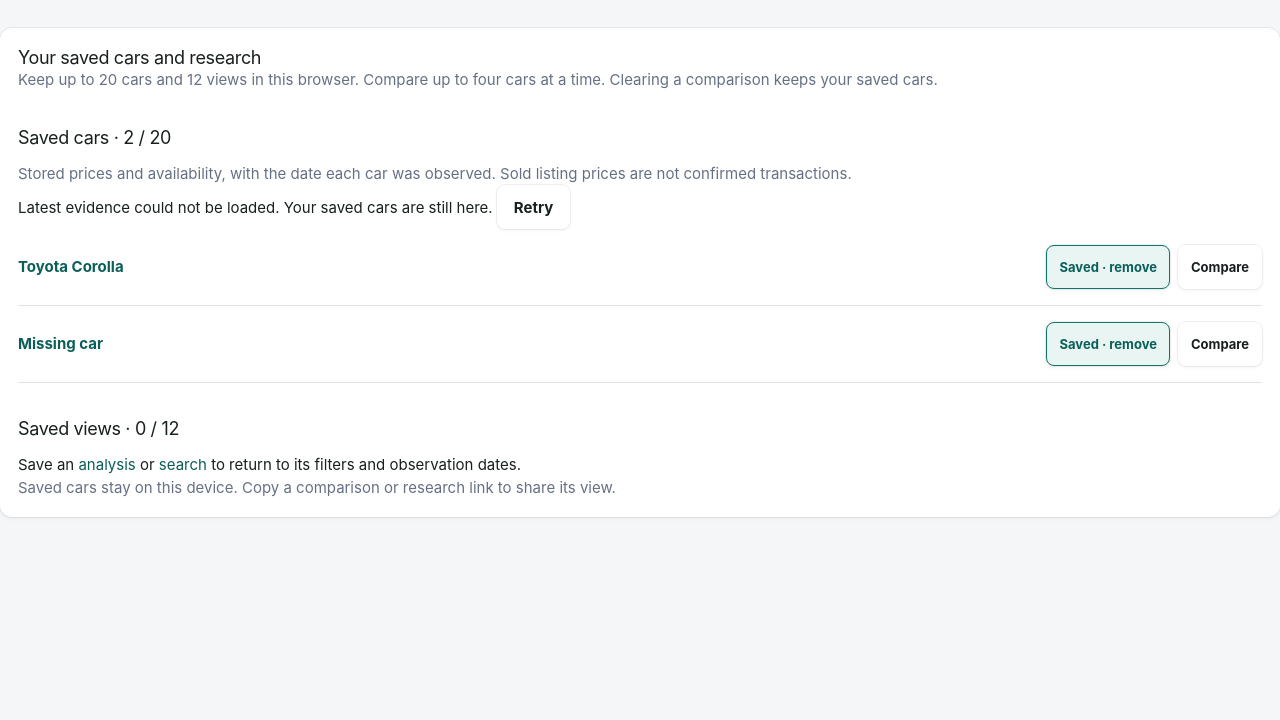
Test case: saved cars and comparison › keeps saved links through a failed summary request and retries to show current evidence and missing listings
Click the button "Retry".
click(534, 207)  # box [497,185,570,229]
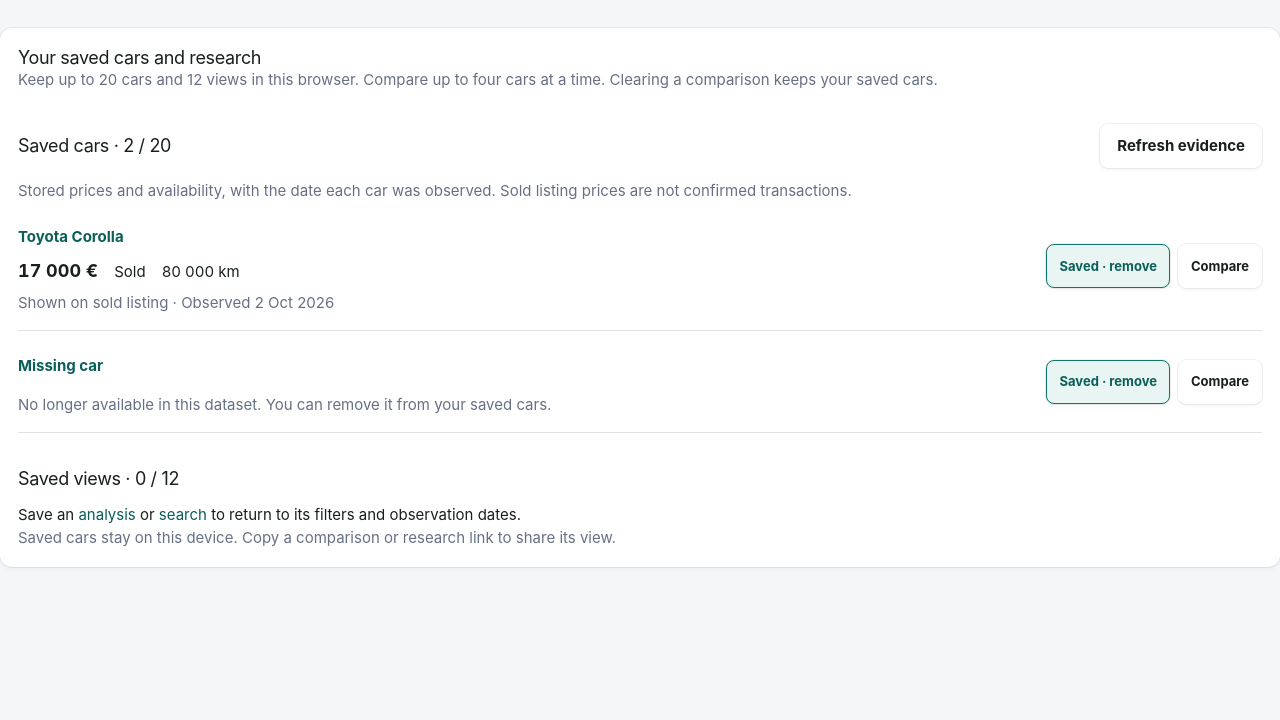
Now the text "Shown on sold listing" is shown, box [18,293,168,312]
Now the text "2 Oct 2026" is shown, box [255,293,334,312]
Now the text "No longer available in this dataset" is shown, box [18,395,551,414]
